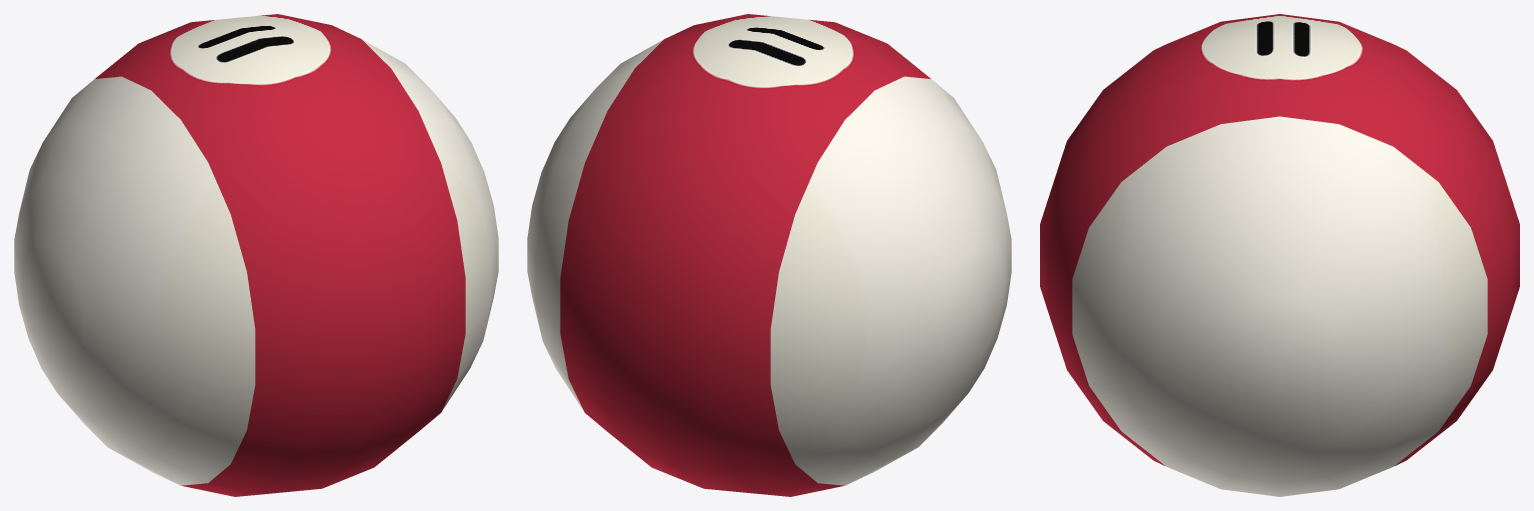
The model's file is Pool_Ball_11.fbx.
The picture shows the model from 3 angles, left to right: view 1: azimuth 30°, elevation 25°; view 2: azimuth 150°, elevation 25°; view 3: azimuth 270°, elevation 25°; orthographic projection.
Parts seen in each view (by area): view 1: Pool_Ball_11; view 2: Pool_Ball_11; view 3: Pool_Ball_11.
Part boxes in pixels (<box>): Pool_Ball_11: <box>14,14,498,496</box>; Pool_Ball_11: <box>527,14,1011,496</box>; Pool_Ball_11: <box>1040,14,1519,496</box>.
Size of the model in its own units: 0.051 by 0.051 by 0.0505.
